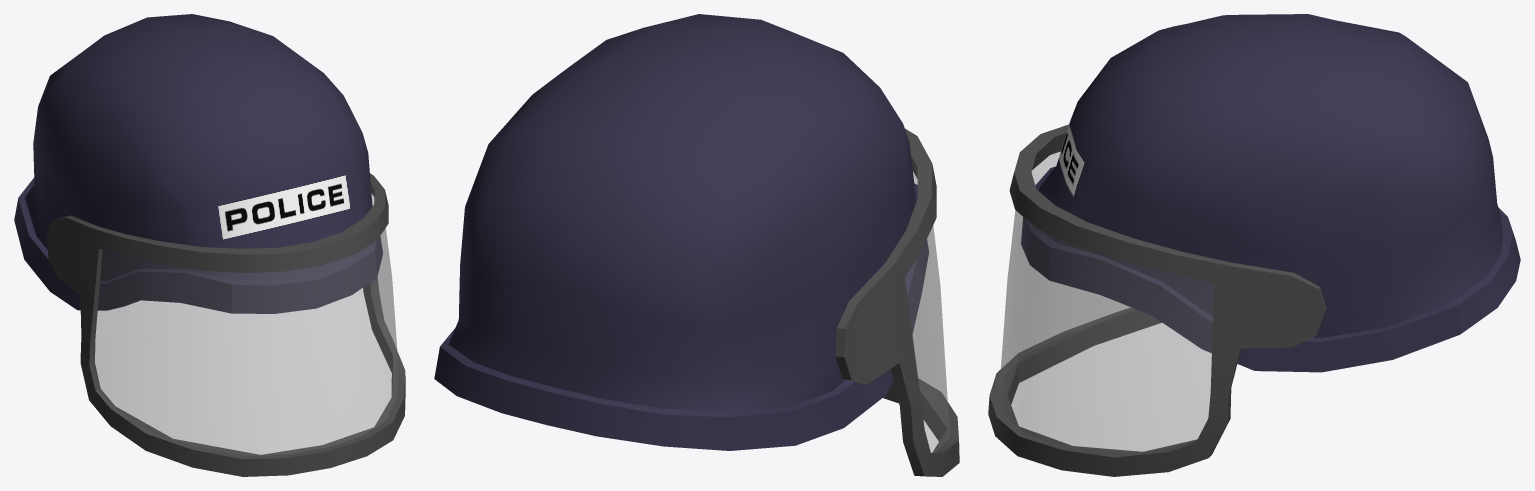
The model's file is Helmet.FBX.
3 renders of one model, left to right at view 1: azimuth 30°, elevation 25°; view 2: azimuth 150°, elevation 25°; view 3: azimuth 270°, elevation 25°, orthographic. The views are drawn at different scales.
Parts seen in each view (by area): view 1: helmet, helmet protector; view 2: helmet, helmet protector; view 3: helmet, helmet protector.
Part boxes in pixels (<box>): helmet: <box>14,14,382,313</box>; helmet protector: <box>47,173,405,476</box>; helmet: <box>434,14,928,450</box>; helmet protector: <box>835,128,959,476</box>; helmet: <box>1021,14,1520,372</box>; helmet protector: <box>988,124,1326,476</box>.
Bounding box in the file's own units: 23.79 × 26.16 × 33.03.
3 materials, 1 textured.
